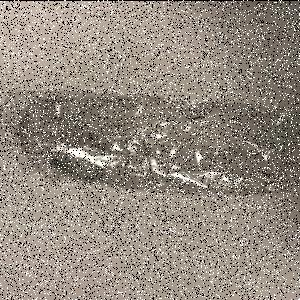Trash: (2, 90, 300, 195)
